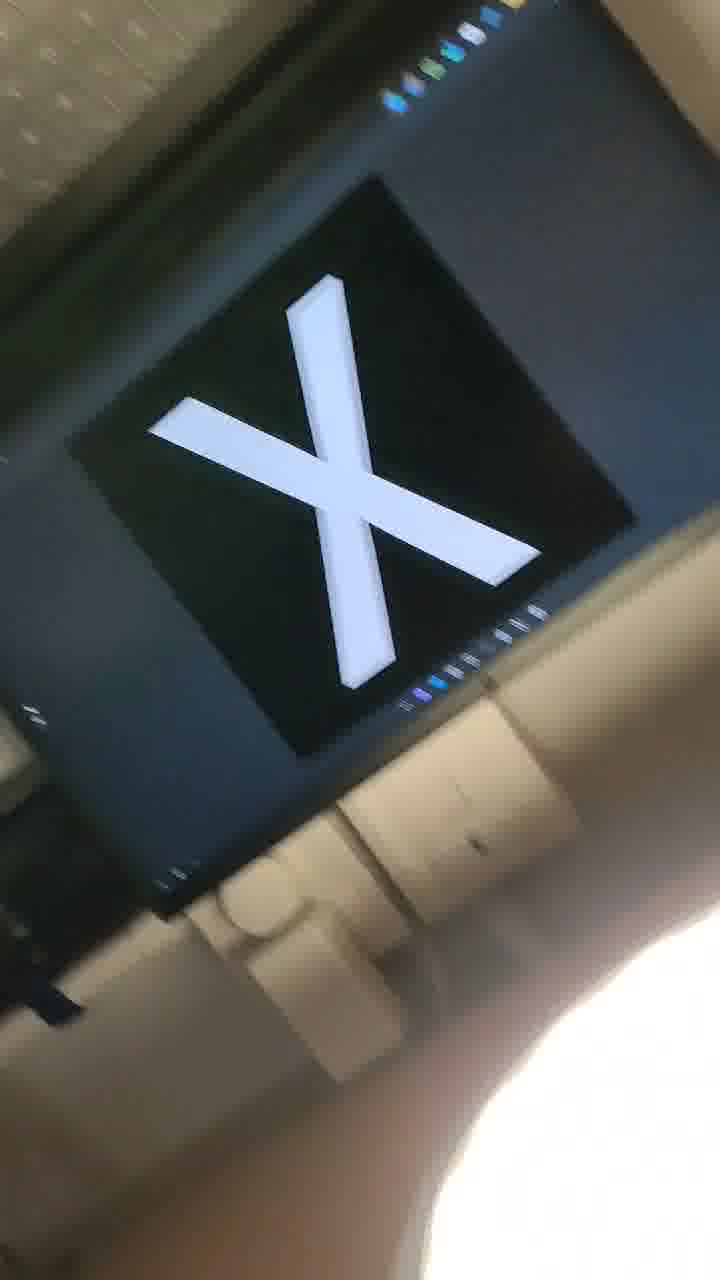X: (121, 254, 550, 673)
